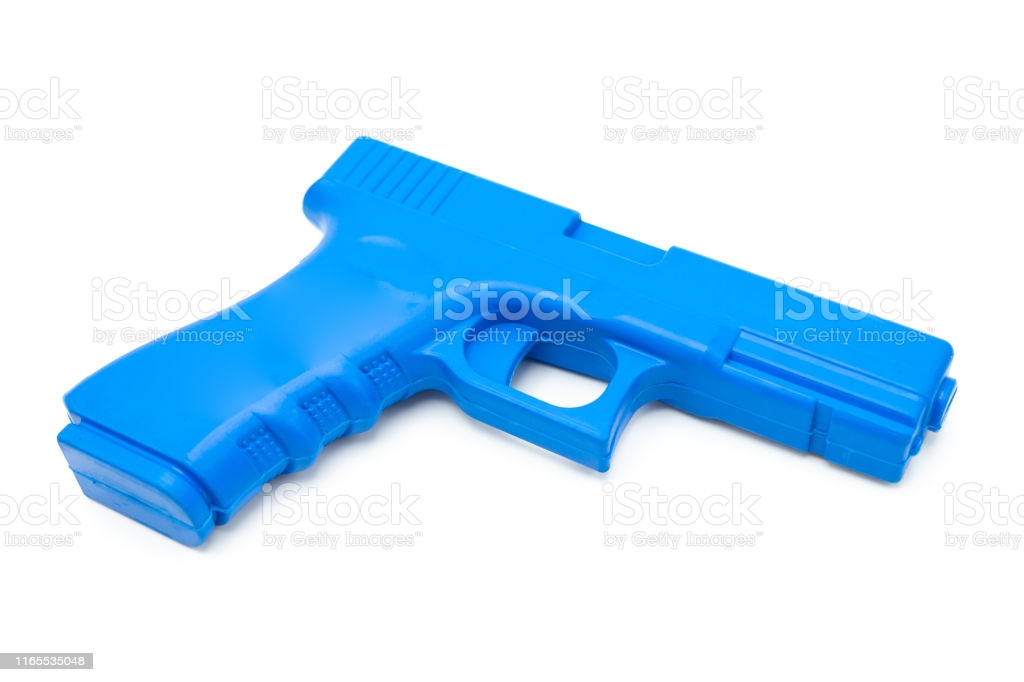Arma Falsa: (43, 133, 960, 551)
